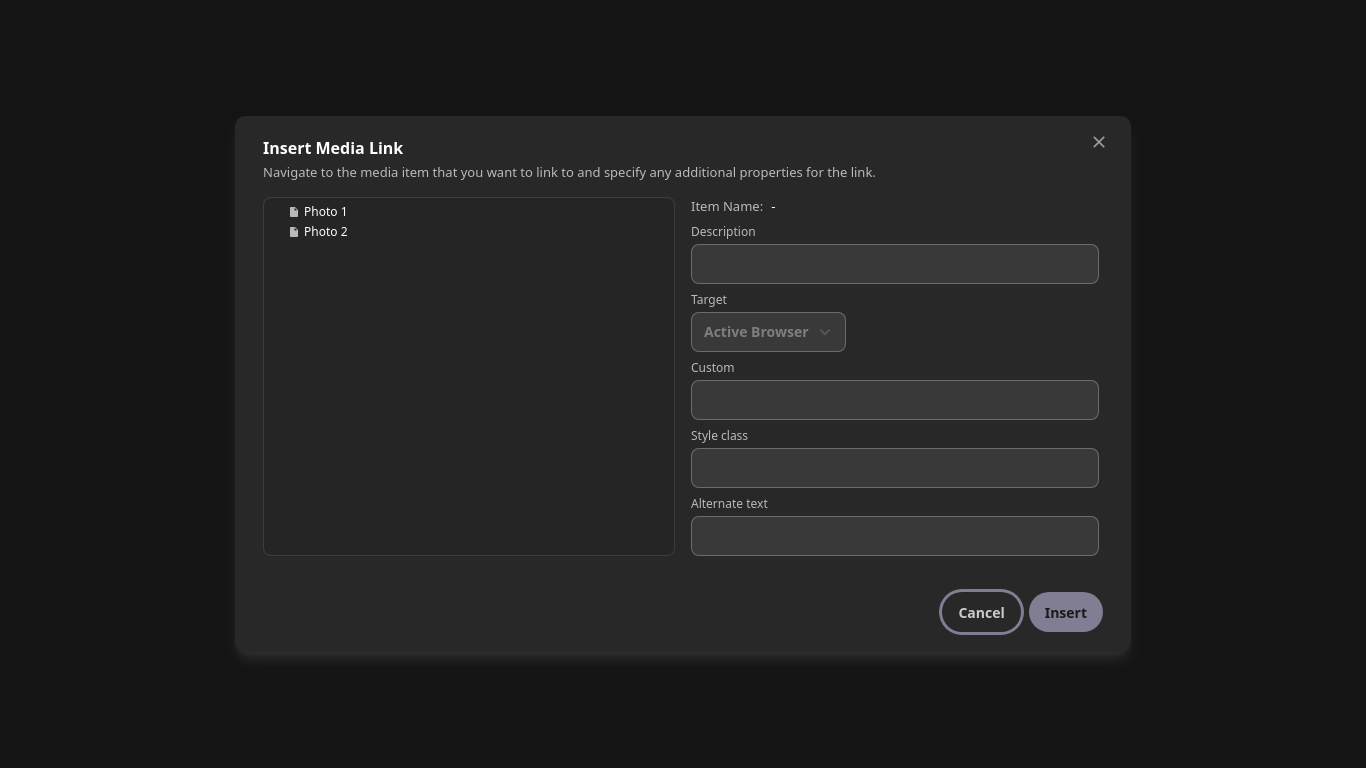
Test case: InsertMediaLinkDialog › selecting an item enables Insert and auto-defaults Description to the item name
Click the text "Photo 1": (326, 212) 304,204 -> 348,220
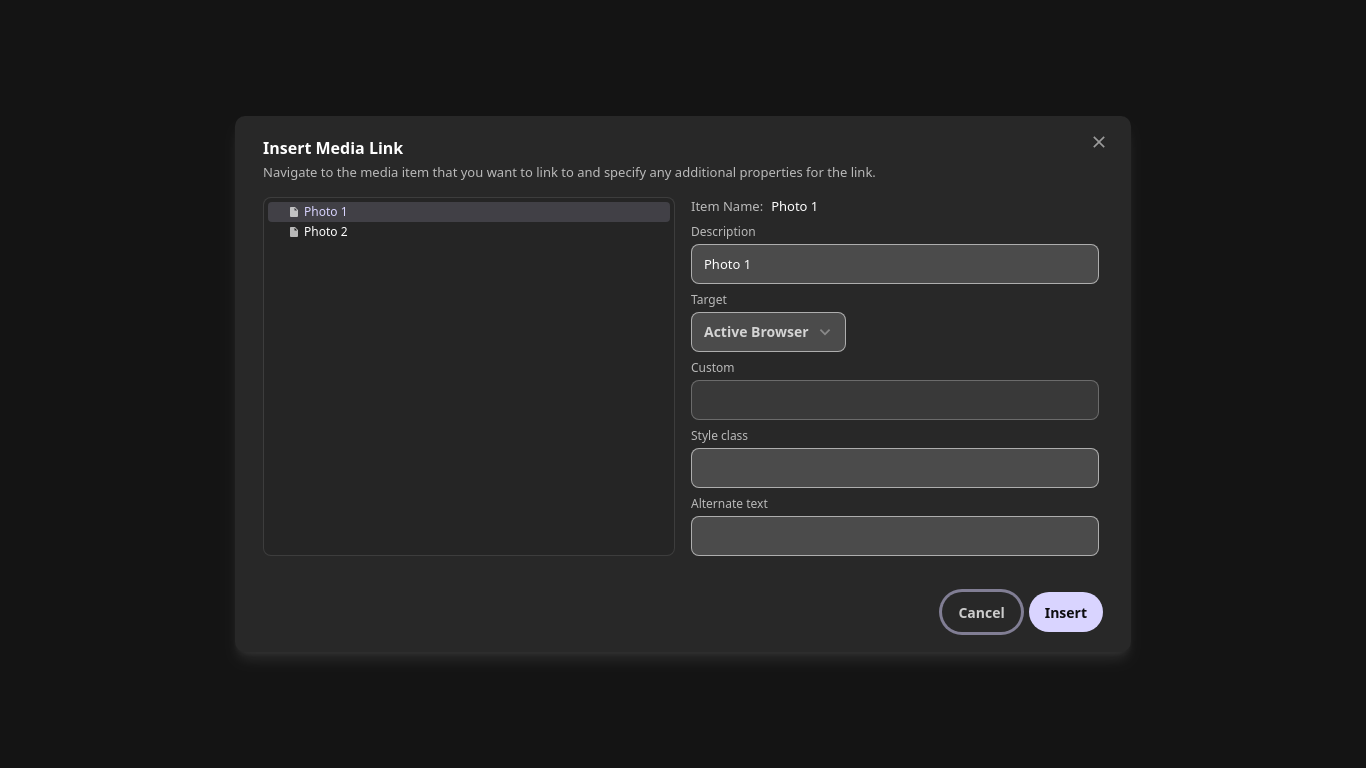
Expected: the button "Insert" is enabled, 1029,592 -> 1103,632
Expected: the field labelled "Description" holds "Photo 1", 691,244 -> 1099,284
